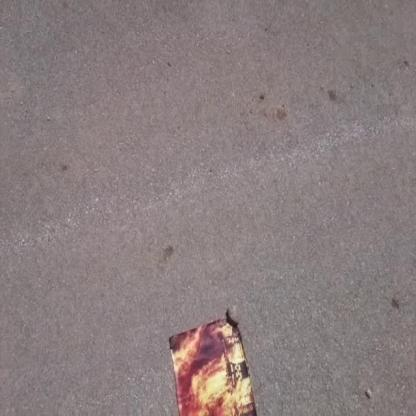fire-poster: (167, 305, 259, 415)
